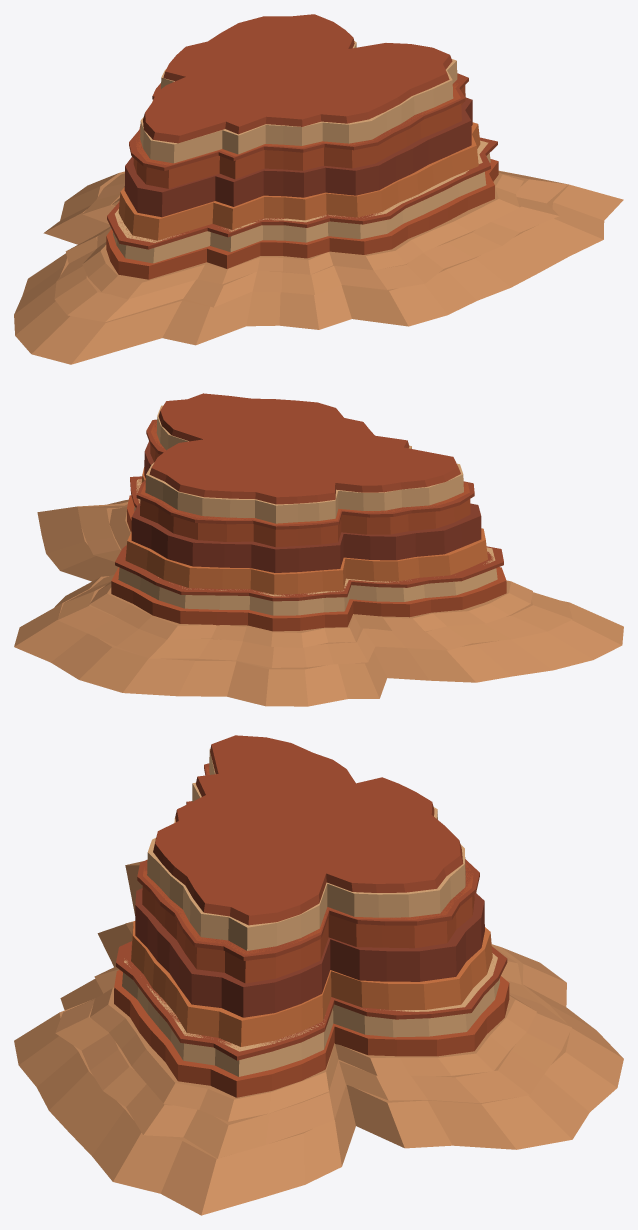
File: dune_mesa_b.glb
3 views of the same model, one above another, from view 1: azimuth 30°, elevation 25°; view 2: azimuth 150°, elevation 25°; view 3: azimuth 270°, elevation 25° (orthographic). The views are drawn at different scales.
Parts seen in each view (by area): view 1: MesaB; view 2: MesaB; view 3: MesaB.
Boxes of the visible parts, <box> form: MesaB: <box>14,14,623,364</box>; MesaB: <box>14,393,623,706</box>; MesaB: <box>14,735,623,1215</box>.
Bounding box in the file's own units: 93.67 × 25 × 66.73.
